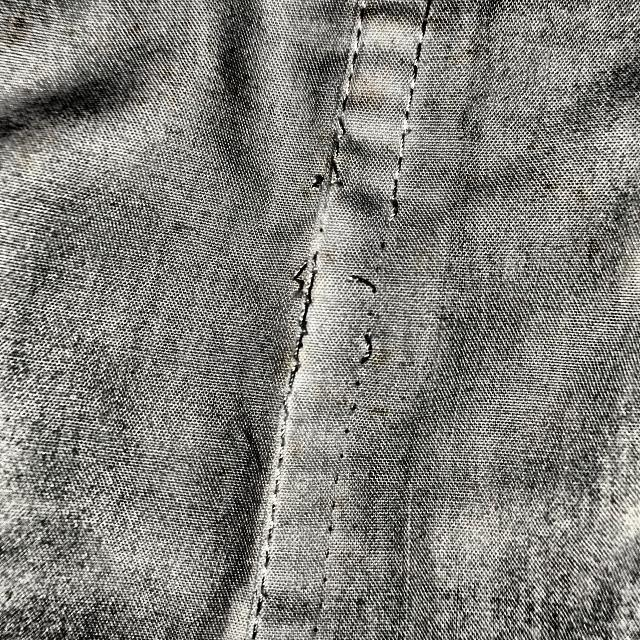gray stitch: (285, 141, 363, 221), (338, 328, 415, 395), (266, 241, 335, 313), (377, 186, 425, 239), (345, 261, 391, 306)
